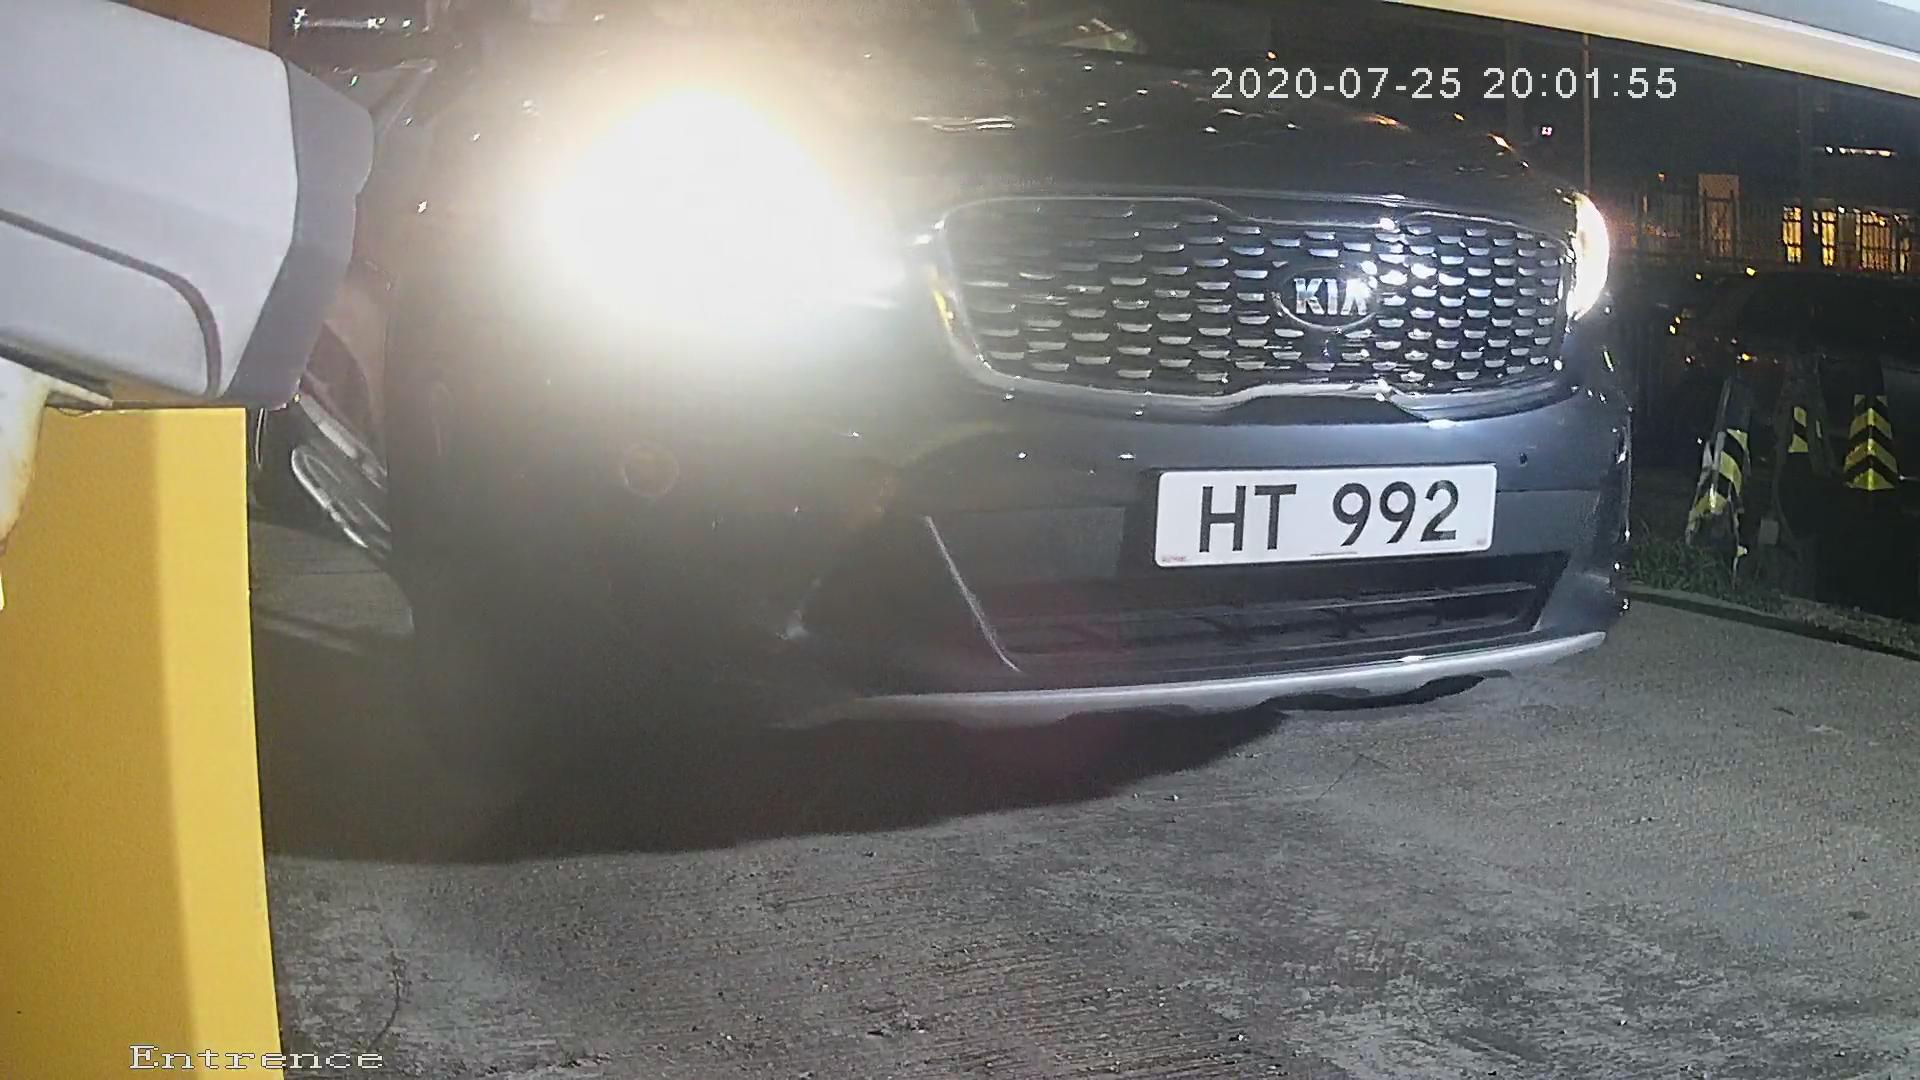Car: (95, 5, 1758, 796)
License Plate: (1106, 449, 1535, 579)
